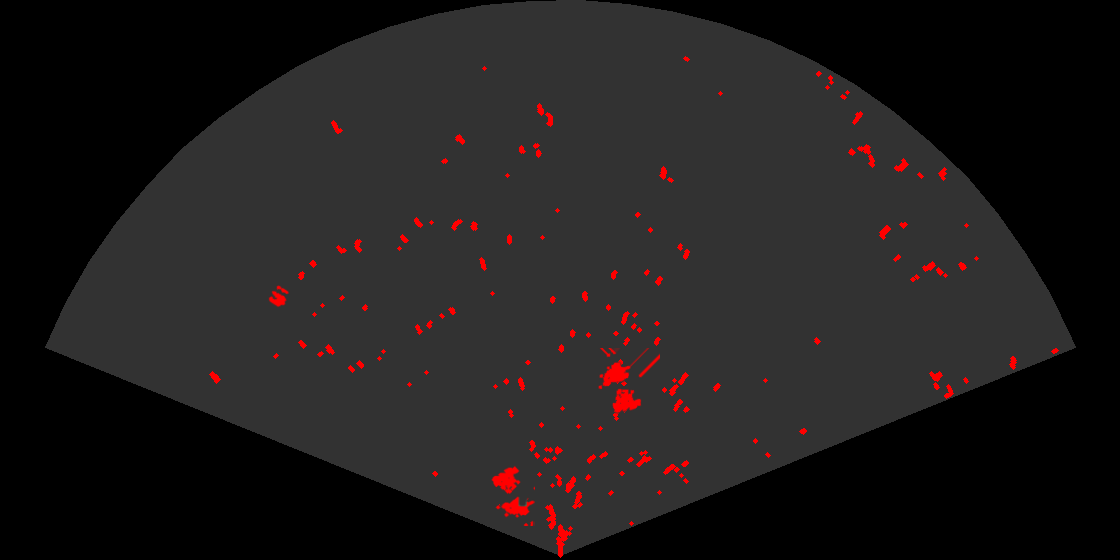ball: (267, 284, 291, 309)
cage: (597, 348, 660, 415), (490, 464, 535, 526)
